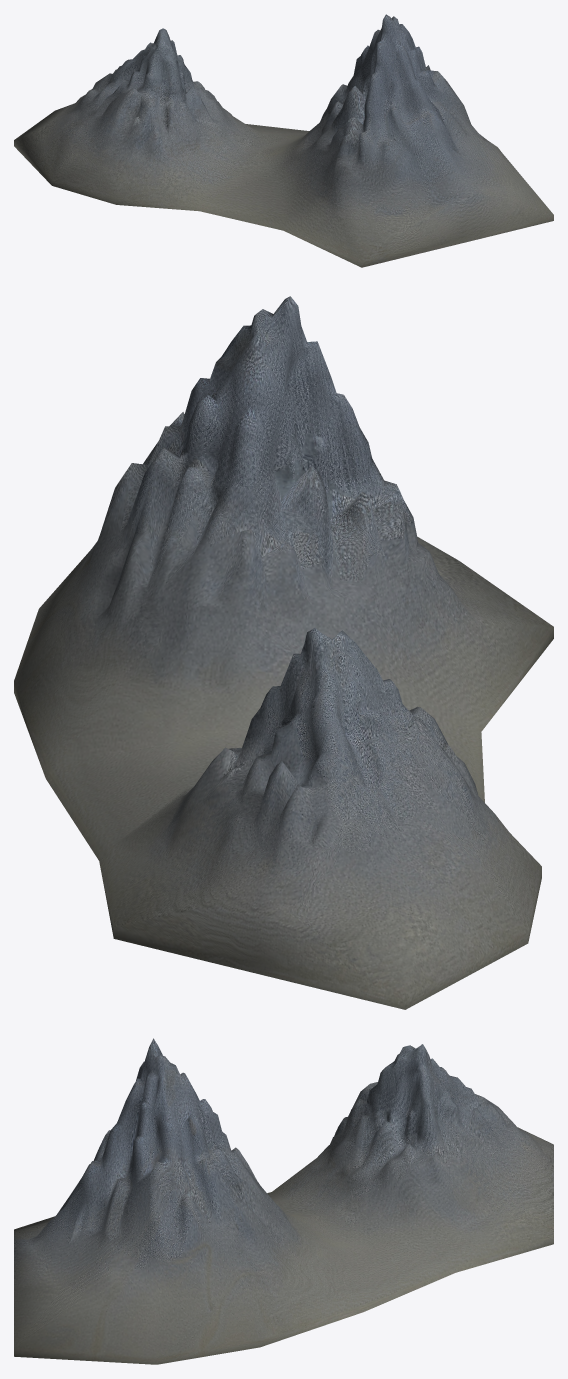
The model's file is pyramidal_mountain_raw.glb.
The picture shows the model from 3 angles, top to bottom: view 1: azimuth 30°, elevation 25°; view 2: azimuth 150°, elevation 25°; view 3: azimuth 270°, elevation 25°; orthographic projection. The views are drawn at different scales.
Parts seen in each view (by area): view 1: tripo_node_3b392b45-76dc-4a77-83ec-e19a9870f76b; view 2: tripo_node_3b392b45-76dc-4a77-83ec-e19a9870f76b; view 3: tripo_node_3b392b45-76dc-4a77-83ec-e19a9870f76b.
Boxes of the visible parts, x1,y1,x2,y2 form: tripo_node_3b392b45-76dc-4a77-83ec-e19a9870f76b: (14,14,553,267); tripo_node_3b392b45-76dc-4a77-83ec-e19a9870f76b: (14,296,553,1009); tripo_node_3b392b45-76dc-4a77-83ec-e19a9870f76b: (14,1038,553,1364).
Bounding box in the file's own units: 0.9629 × 0.5059 × 0.998.
1 material, 1 textured.
